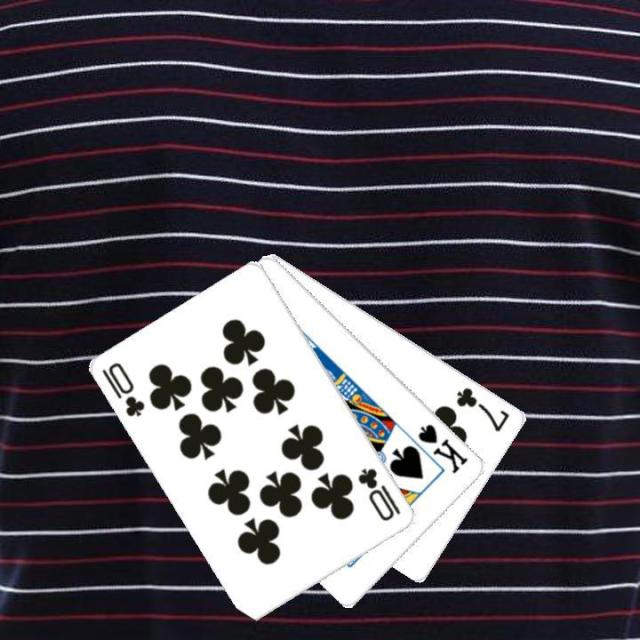10C: (98, 358, 148, 419), (353, 464, 402, 524)
7C: (452, 383, 512, 434)
KS: (414, 420, 470, 476)
